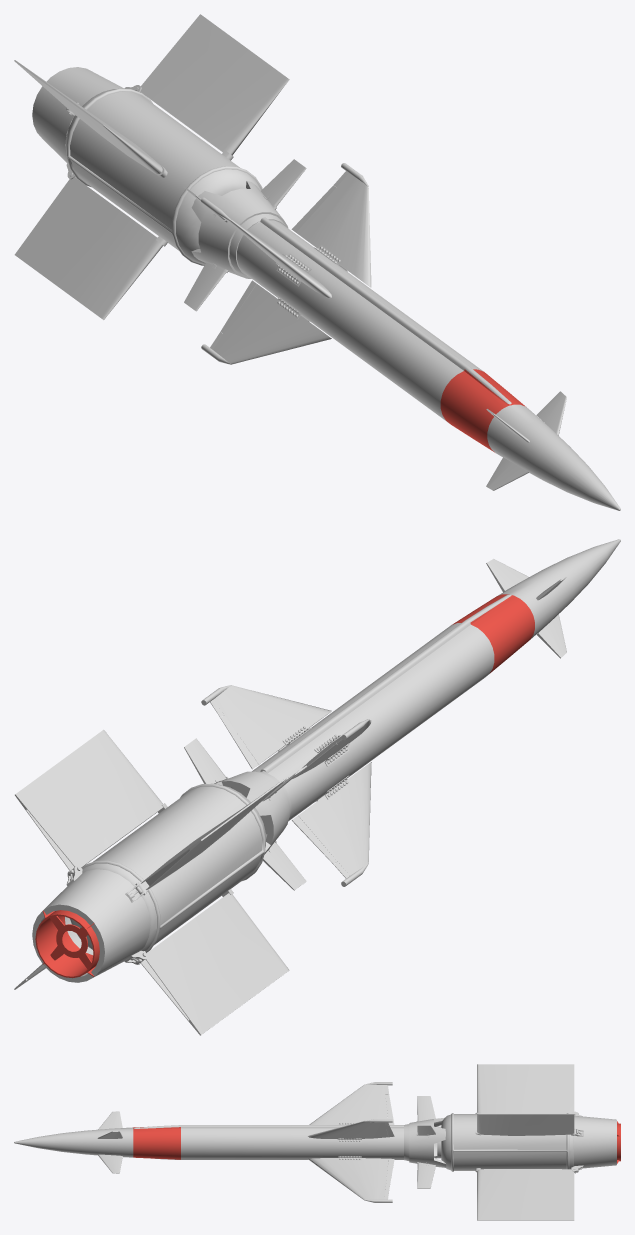
File: SA-3Goa.obj
3 renders of one model, top to bottom at view 1: azimuth 30°, elevation 25°; view 2: azimuth 150°, elevation 25°; view 3: azimuth 270°, elevation 25°, orthographic. The views are drawn at different scales.
Parts seen in each view (by area): view 1: SA_3_missile; view 2: SA_3_missile; view 3: SA_3_missile.
Part boxes in pixels (box(x1,y1,x2,y2)): SA_3_missile: box(14, 14, 620, 510); SA_3_missile: box(14, 539, 620, 1035); SA_3_missile: box(14, 1064, 620, 1220).
Bounding box in the file's own units: 45.55 × 45.55 × 233.
